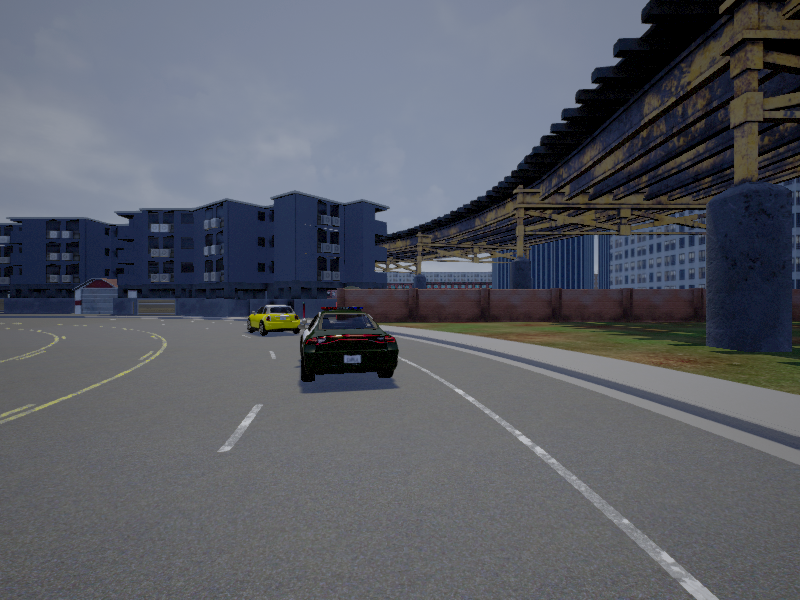Benign: (300, 307, 399, 384), (246, 303, 303, 336)
